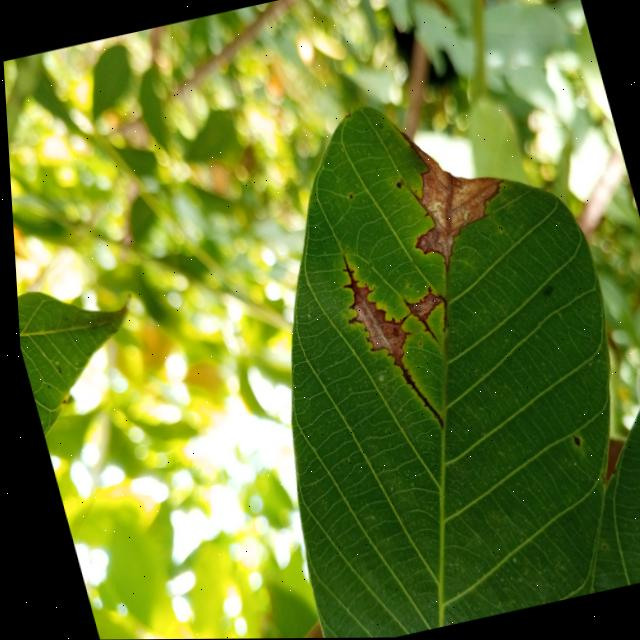Corynespora: (324, 242, 440, 445), (396, 293, 436, 351), (427, 294, 449, 335)
Leaf-Blight: (381, 114, 519, 276), (405, 290, 442, 322)
